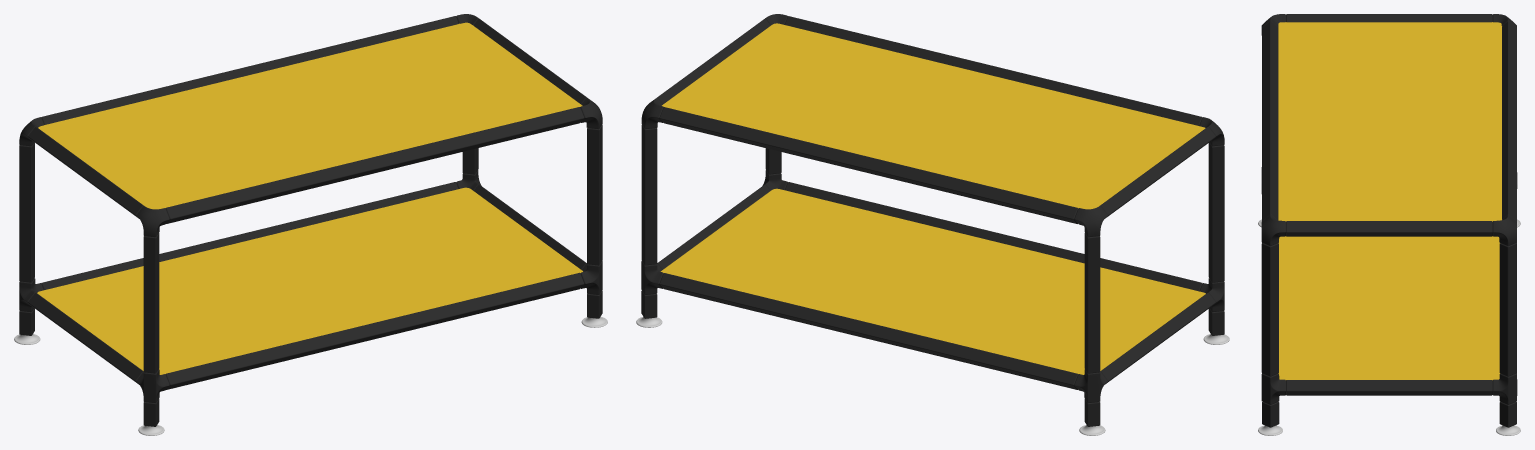
3 renders of one model, left to right at view 1: azimuth 30°, elevation 25°; view 2: azimuth 150°, elevation 25°; view 3: azimuth 270°, elevation 25°, orthographic. The views are drawn at different scales.
Visible parts, largest first — view 1: 729x329x229; view 2: 729x329x229; view 3: 729x329x229.
Part boxes in pixels (x1=…): 729x329x229: x1=14, y1=14, x2=607, y2=435; 729x329x229: x1=636, y1=14, x2=1229, y2=435; 729x329x229: x1=1258, y1=14, x2=1520, y2=435.
Size of the model in its own units: 0.8189 by 0.3683 by 0.4182.
